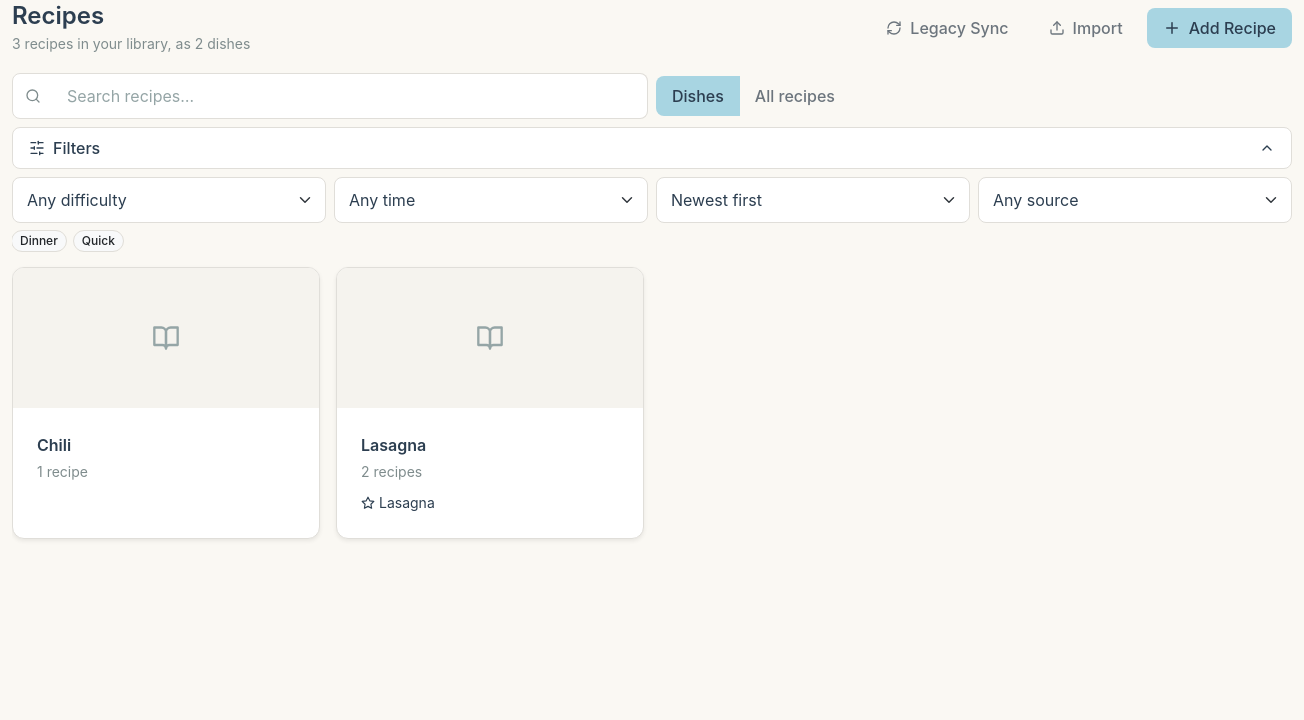
Scenario: Recipes page — dishes › opens a dish to all its recipes, favourite first
This screenshot has width=1304, height=720.
Click the button "Lasagna". click: (394, 445)
box: [361, 433, 426, 457]
(page scrolled)
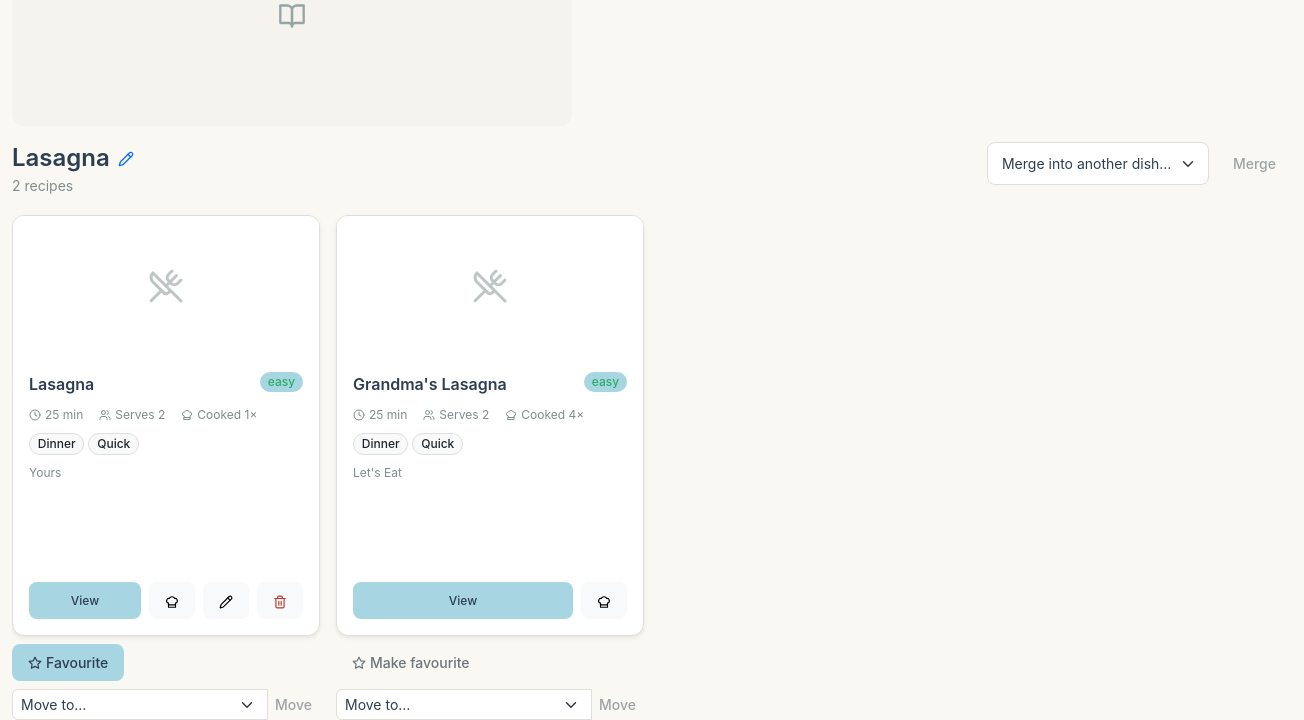
Expected: the heading reads "Lasagna", [12, 143, 110, 172]
Expected: the text "Grandma's Lasagna" is shown, [353, 372, 507, 397]
